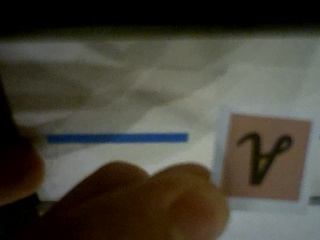A: (217, 111, 314, 202)
